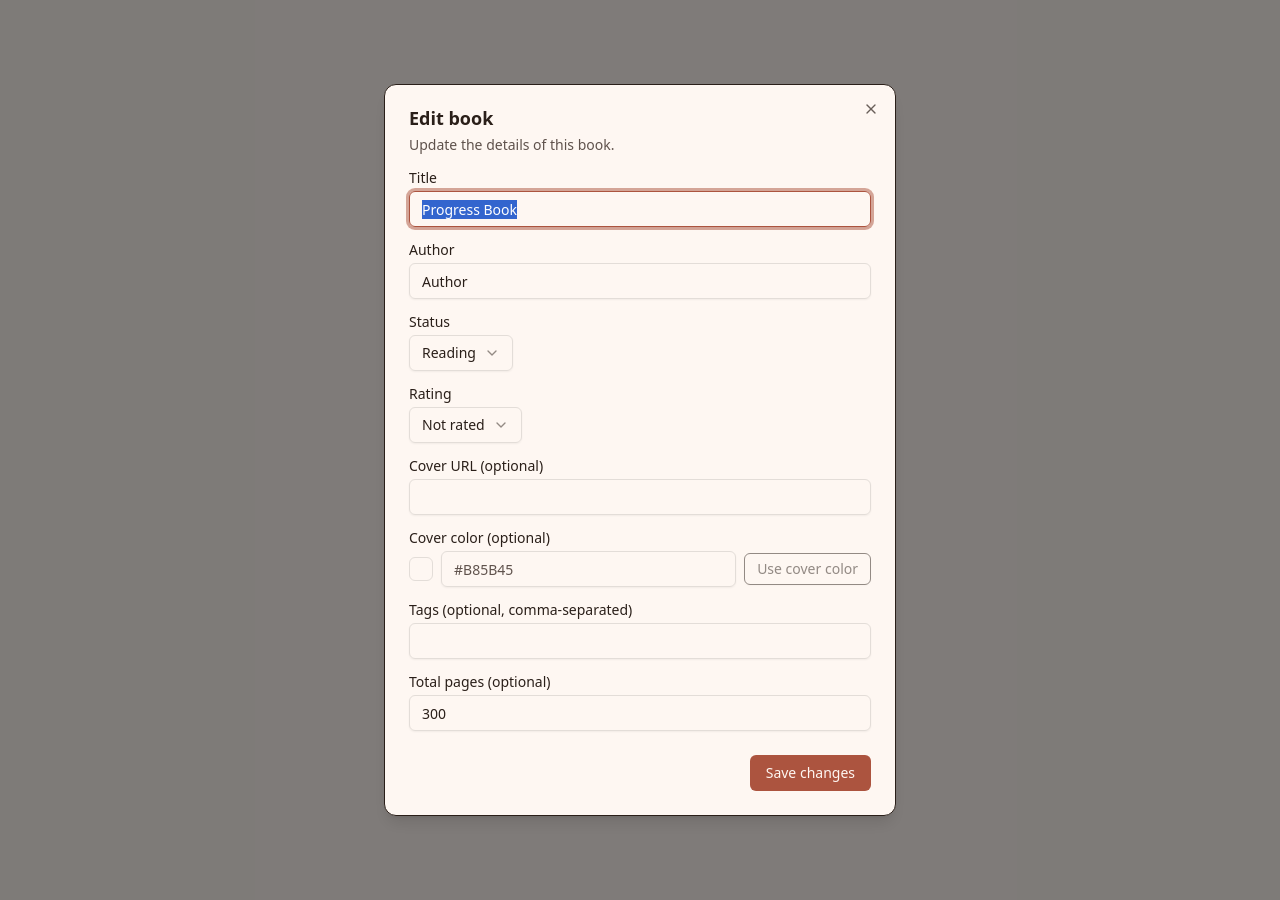
Test: EditBookDialog › shows a visible totalPages error when totalPages is lower than currentPage
Expected: the dialog is shown, left=384, top=84, right=896, bottom=816
Replace the text in the number field labelled "Total pages (optional)" with "100" at (640, 713), box left=409, top=695, right=871, bottom=731
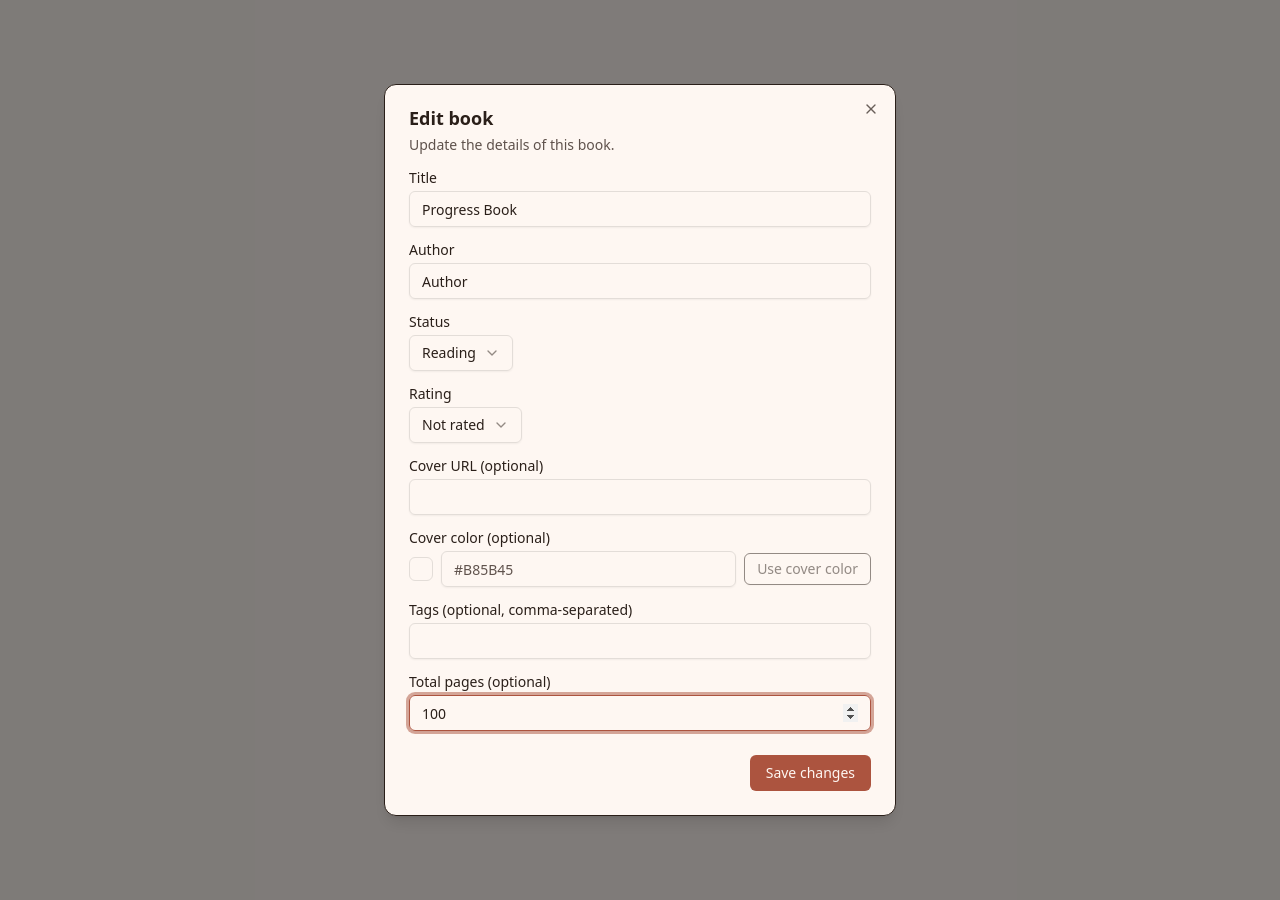
Click the button "Save changes" at (810, 773), box left=750, top=755, right=871, bottom=791
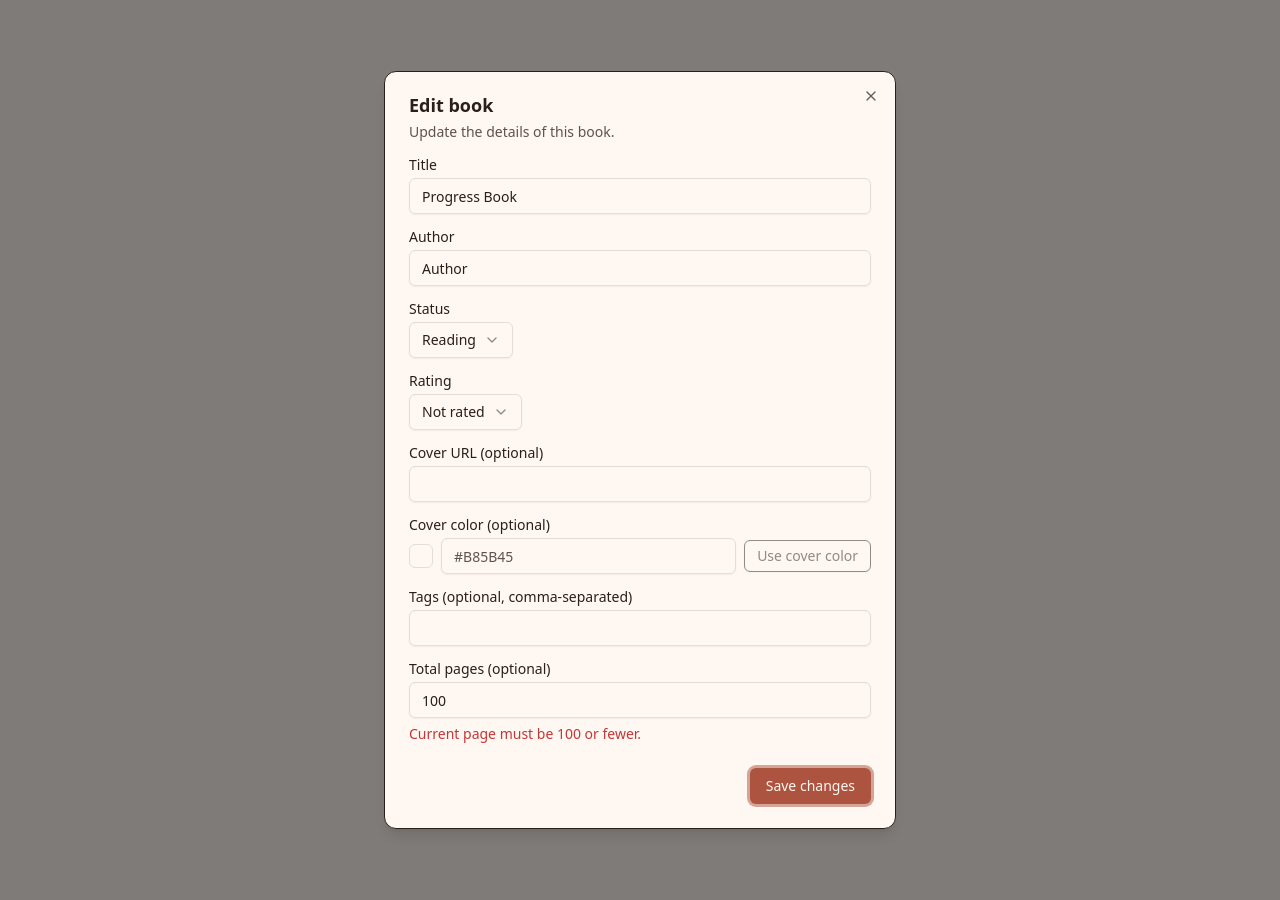
Expected: the text "Current page must be 100 or fewer." is shown, left=409, top=724, right=641, bottom=743
